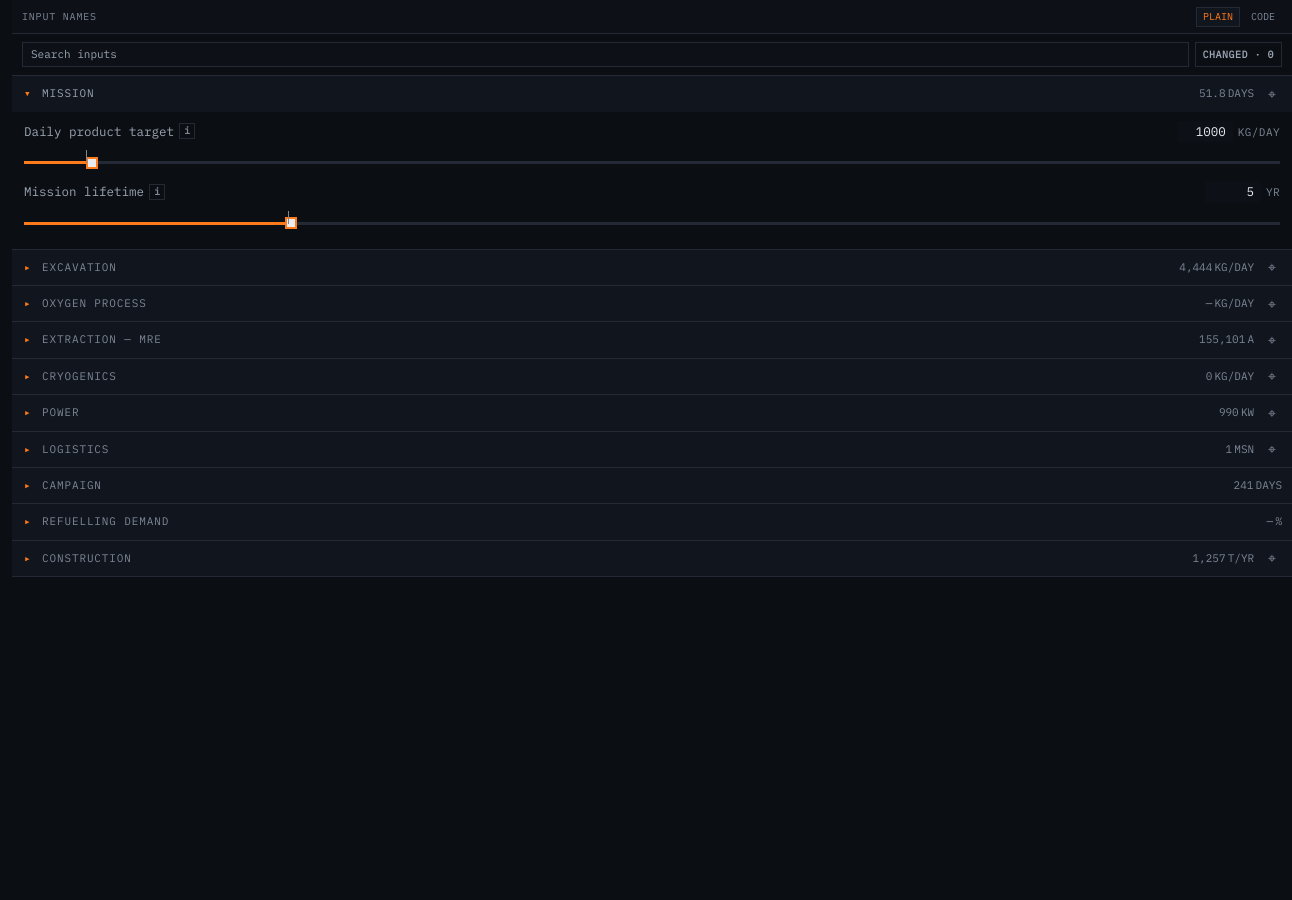
oxygen process rail › switches the process from the rail and hides the MRE group
Click the button "▸ Oxygen process".
click(94, 303)  # box [12, 286, 1198, 321]
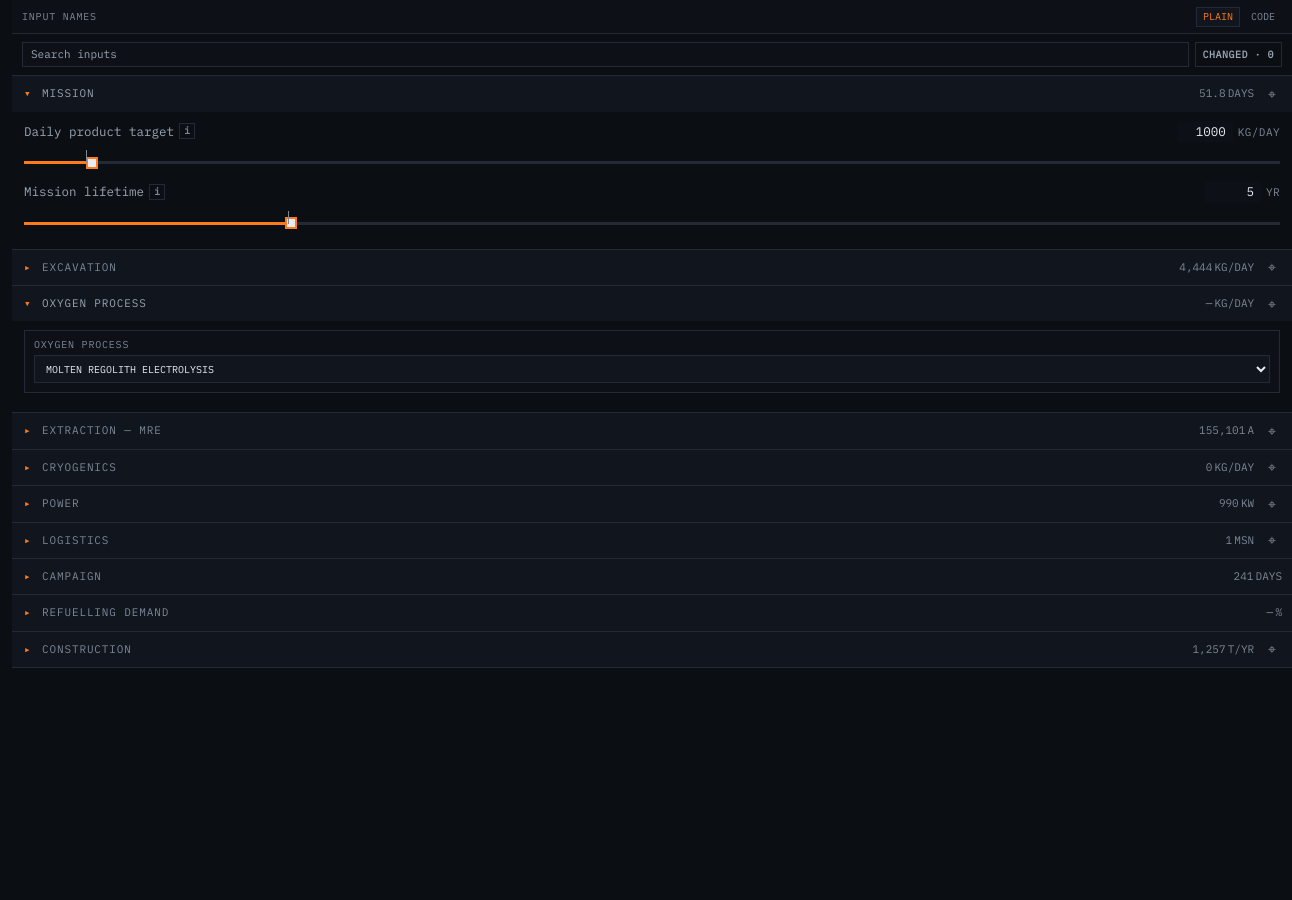
Select "ILMENITE H₂ REDUCTION" in the dropdown labelled "OXYGEN PROCESS" at (652, 369), box [34, 355, 1270, 383]
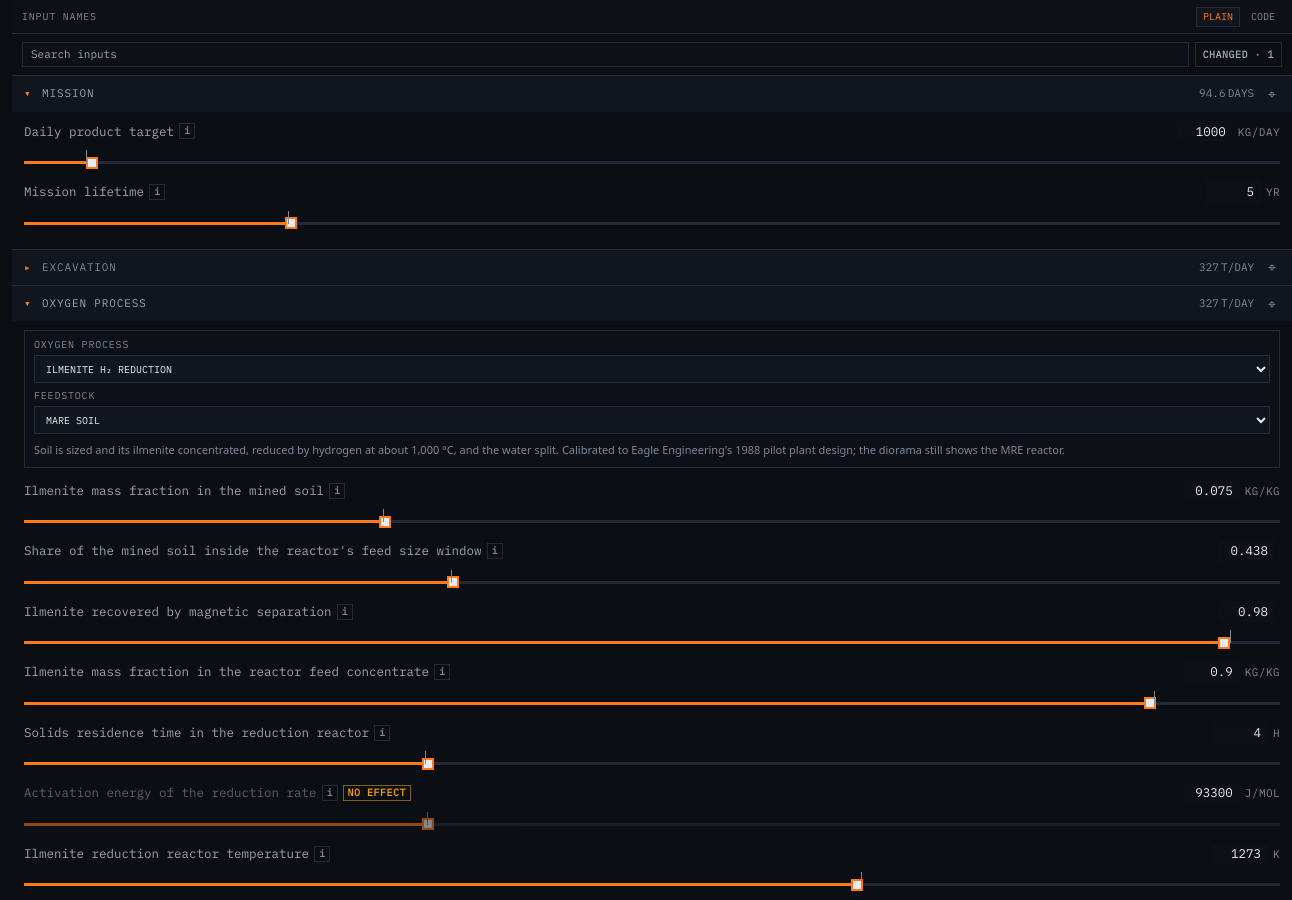
Result: the button "Extraction — MRE" no longer shows "Extraction — MRE"
Result: the button "Construction" no longer shows "Construction"
